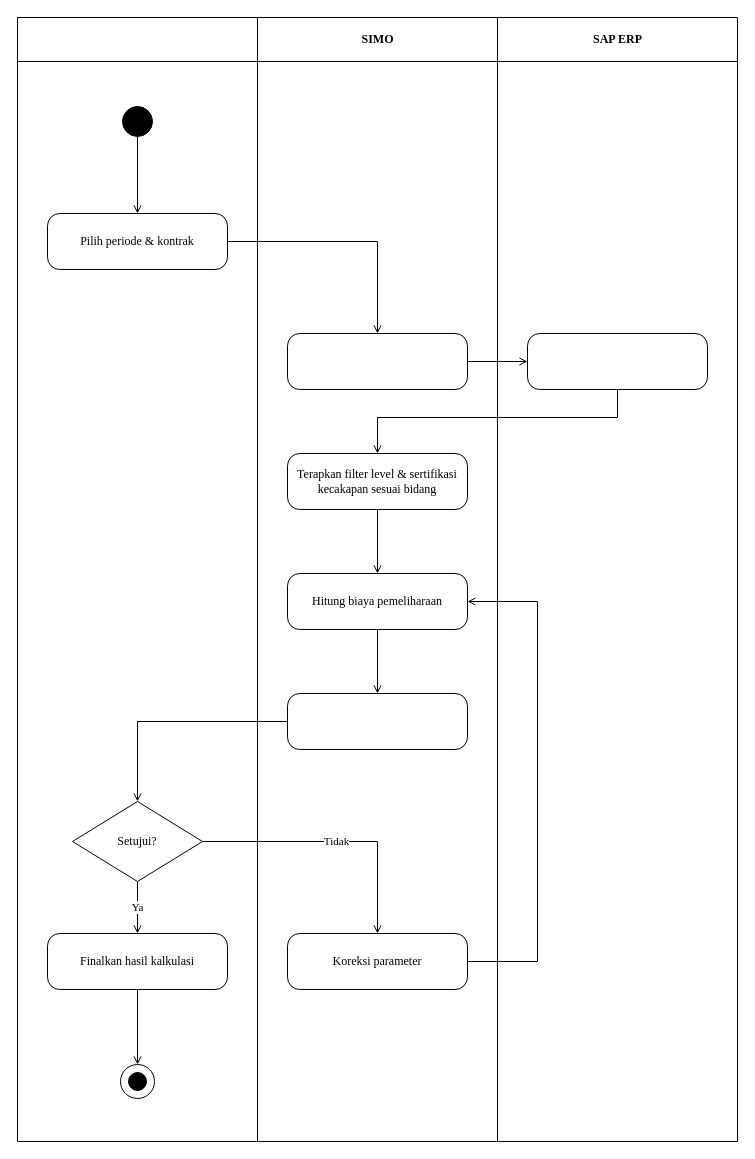
Image size: 755x1159. Some labels were removed from this diagram. The shapes that lost their labels are listed below. From the top down, each one's box as (x1, y1, x2, y2) in pixels, then its label:
(286, 332, 468, 390): Ambil data terintegrasi
(526, 332, 708, 390): Kirim data sumber
(16, 16, 258, 1142): Cost Accounting
(286, 692, 468, 750): Tampilkan rekap biaya
